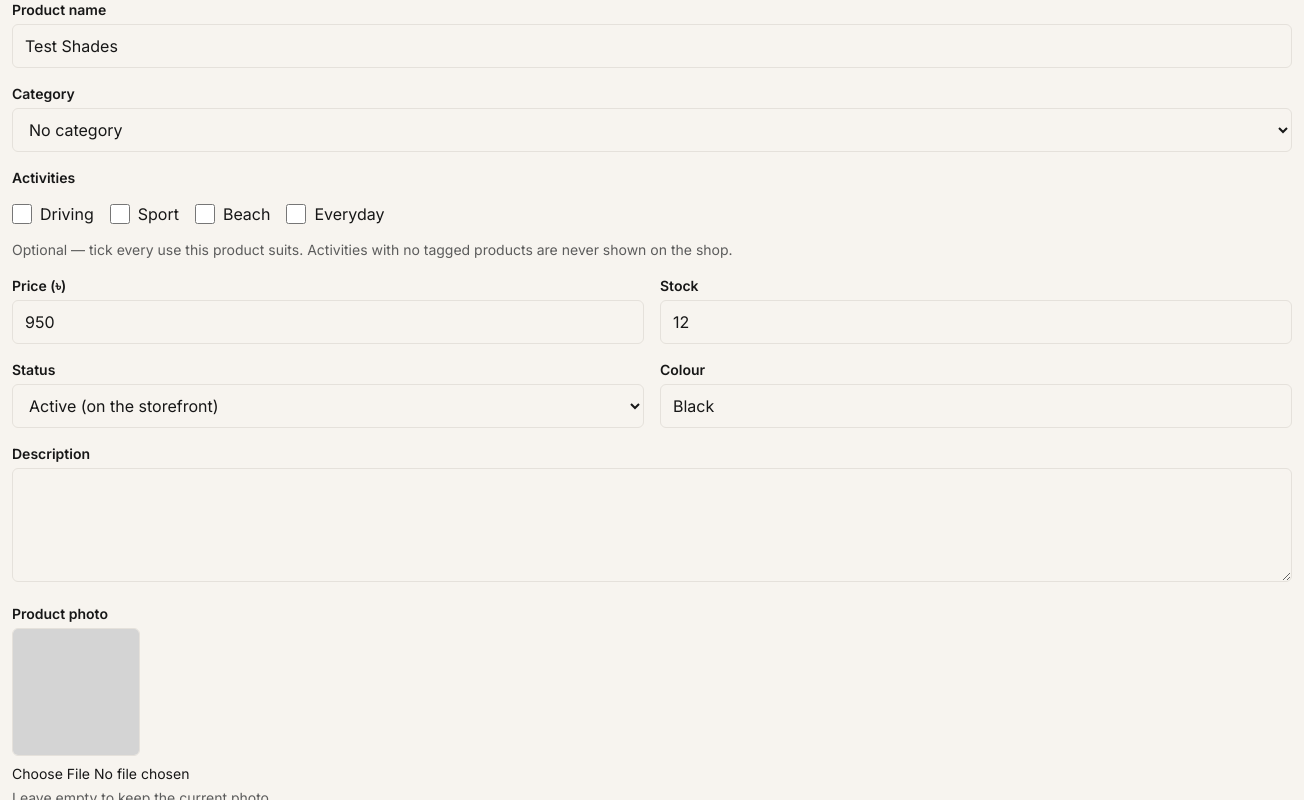
Test: ProductForm › blocks save when the price is 0 even with stock and a photo
Replace the text in the number field labelled "Price (৳)" with "0" at coordinates (328, 322), box [12,300,644,344]
(page scrolled)
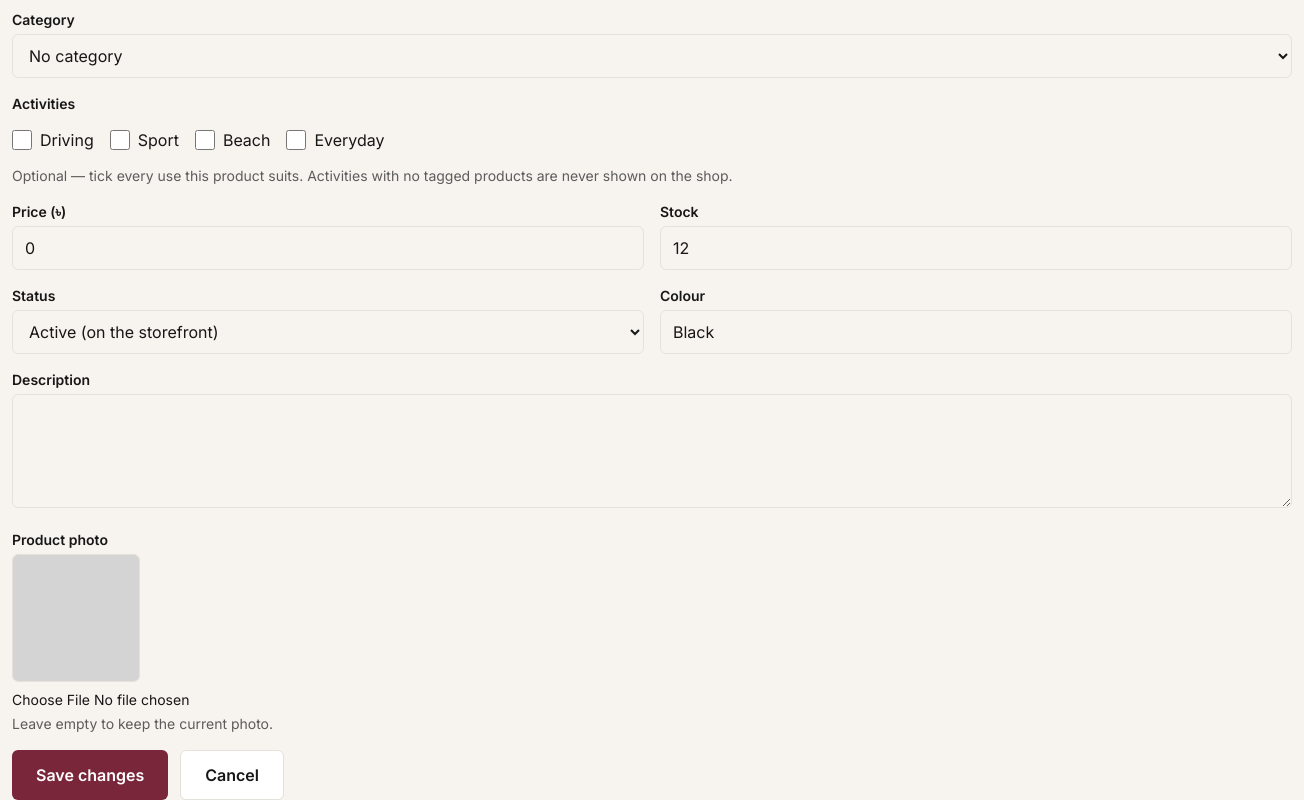
Click the button "Save changes" at coordinates (90, 775), box [12,750,168,799]
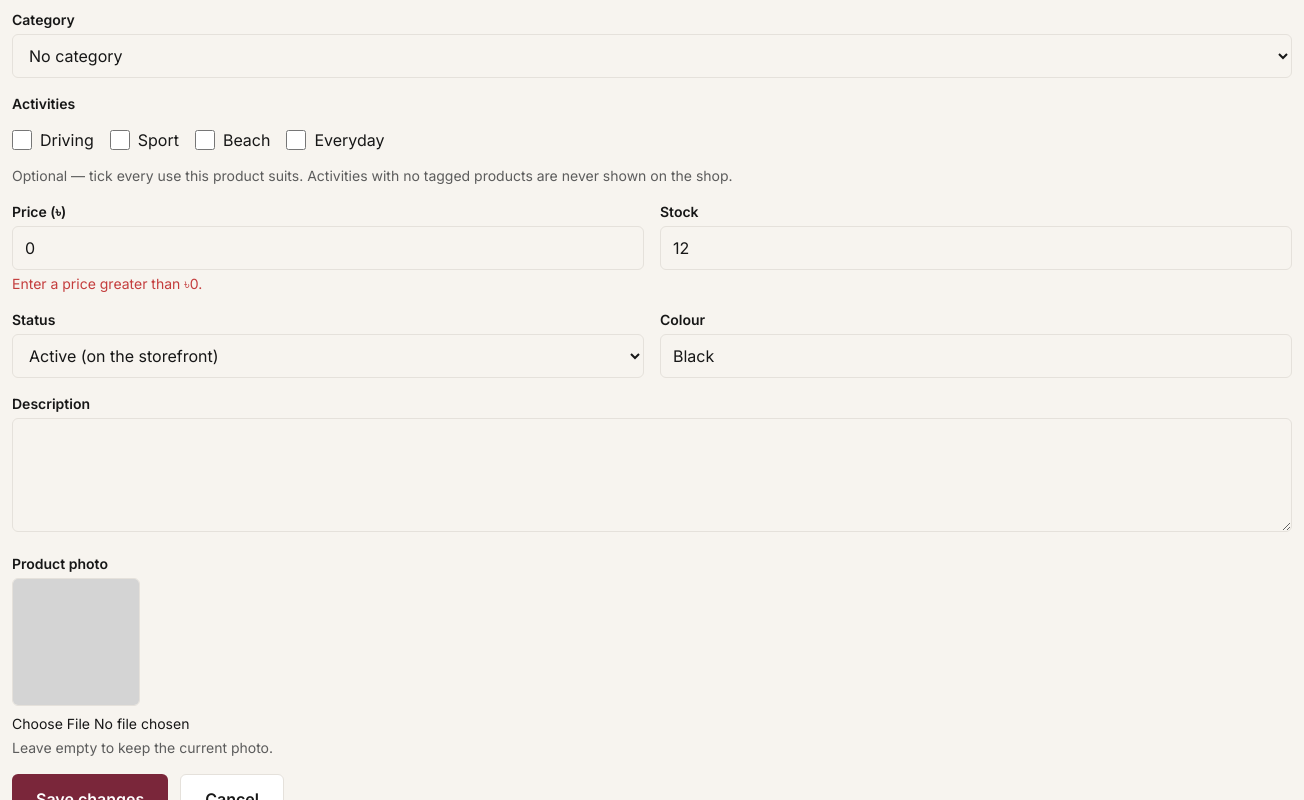
Expected: the text "Enter a price greater than ৳0." is shown, [12,275,202,292]
